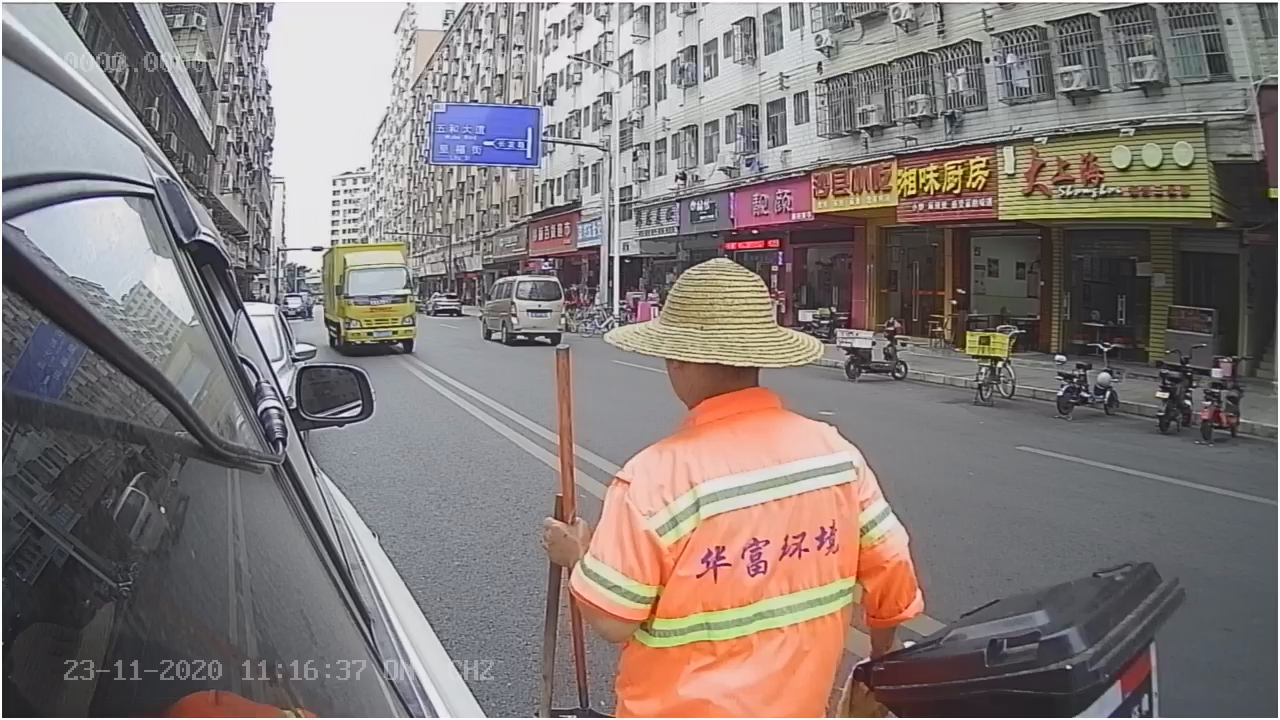person: (573, 252, 909, 654)
